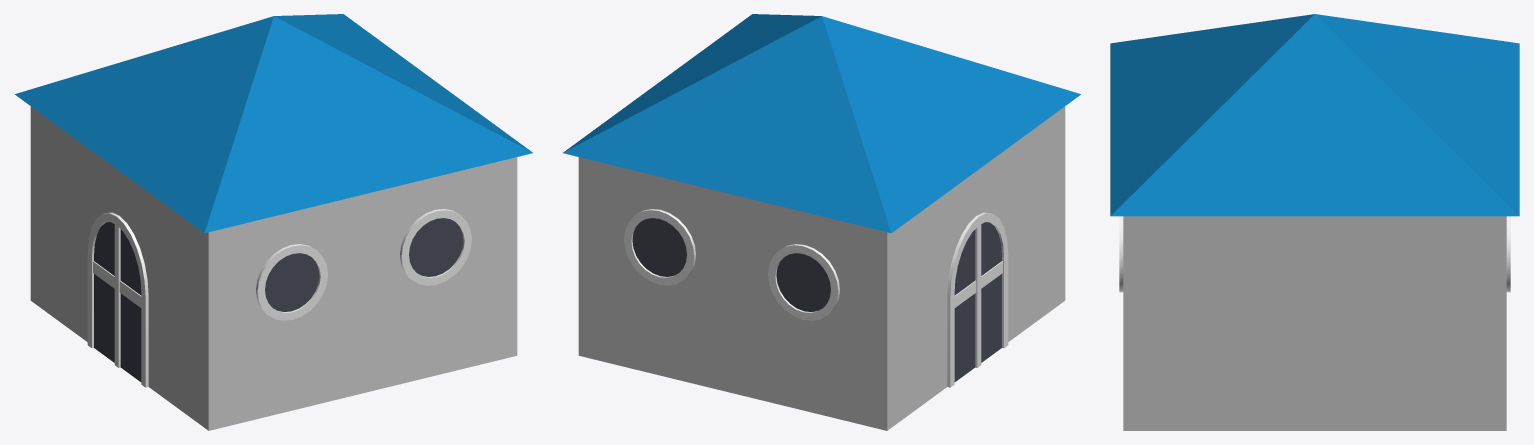
File: house 4.model.fbx
The picture shows the model from 3 angles, left to right: view 1: azimuth 30°, elevation 25°; view 2: azimuth 150°, elevation 25°; view 3: azimuth 270°, elevation 25°; orthographic projection. The views are drawn at different scales.
Visible parts, largest first — view 1: block_0, roof_point_28, door_rounded_wide_29, window_round_31, window_round_33; view 2: block_0, roof_point_28, door_rounded_wide_29, window_round_30, window_round_34; view 3: block_0, roof_point_28.
Part boxes in pixels (x1,y1,x2,y2): block_0: (30, 106, 517, 430); roof_point_28: (15, 14, 532, 233); door_rounded_wide_29: (87, 212, 148, 387); window_round_31: (400, 209, 471, 285); window_round_33: (256, 244, 327, 320); block_0: (578, 106, 1065, 430); roof_point_28: (563, 14, 1080, 233); door_rounded_wide_29: (947, 212, 1008, 387); window_round_30: (624, 209, 695, 285); window_round_34: (768, 244, 839, 320); block_0: (1123, 216, 1506, 430); roof_point_28: (1110, 14, 1519, 216).
Bounding box in the file's own units: 32 × 29 × 32.
